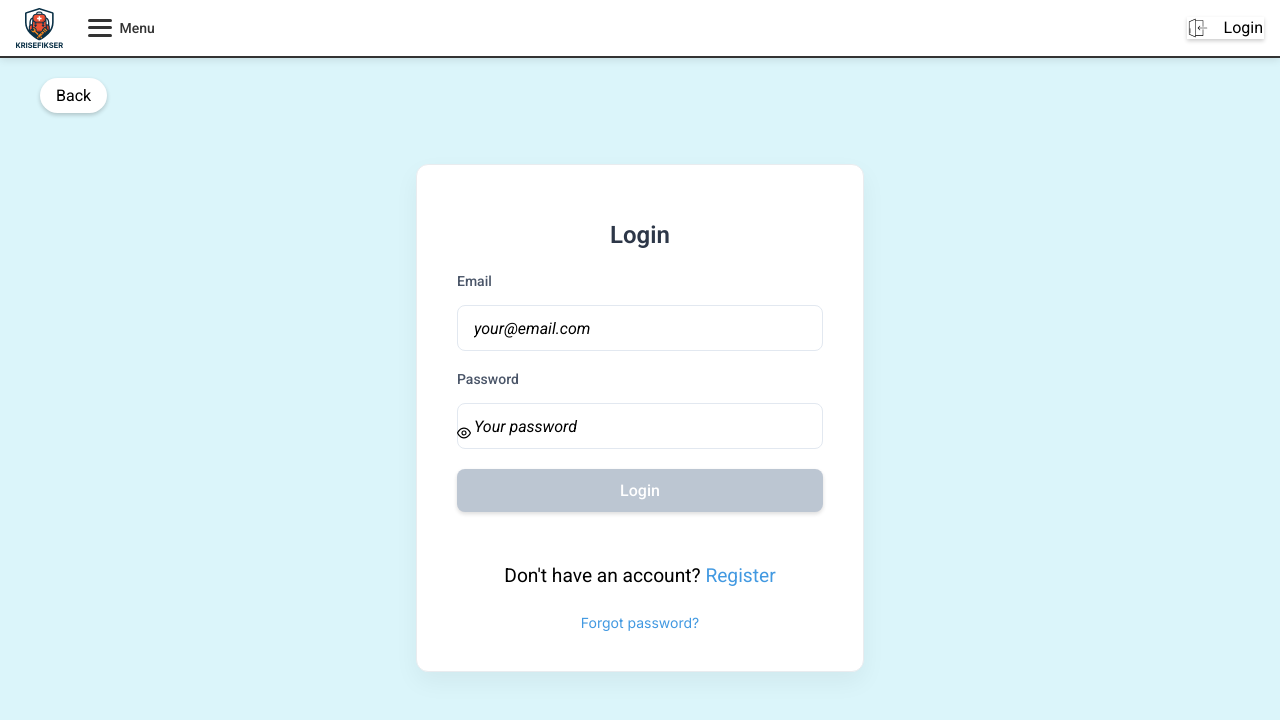
Test: Login Flow › Regular User Login › should handle 2FA required flow
Type "user@example.com" into the field with id "email" at (640, 328), box x1=457 y1=305 x2=823 y2=351
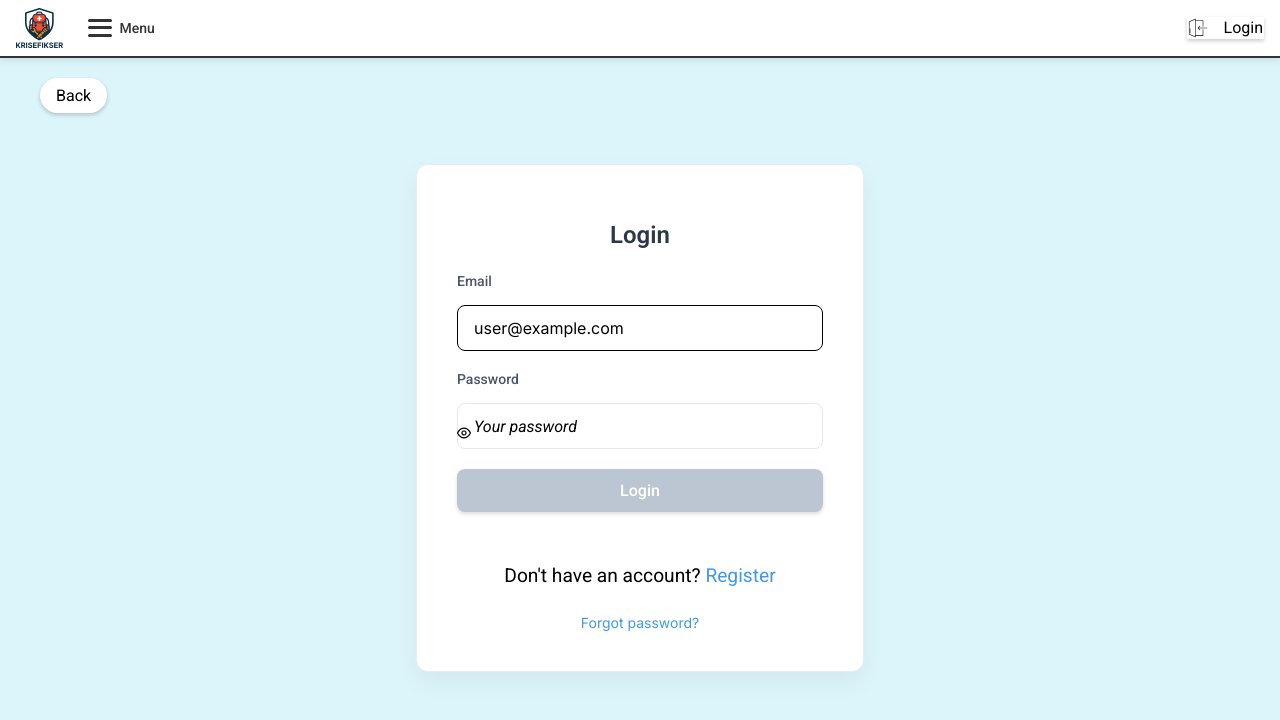
Type "correctpassword" into the password field labelled "Password" at (640, 426), box x1=457 y1=403 x2=823 y2=449
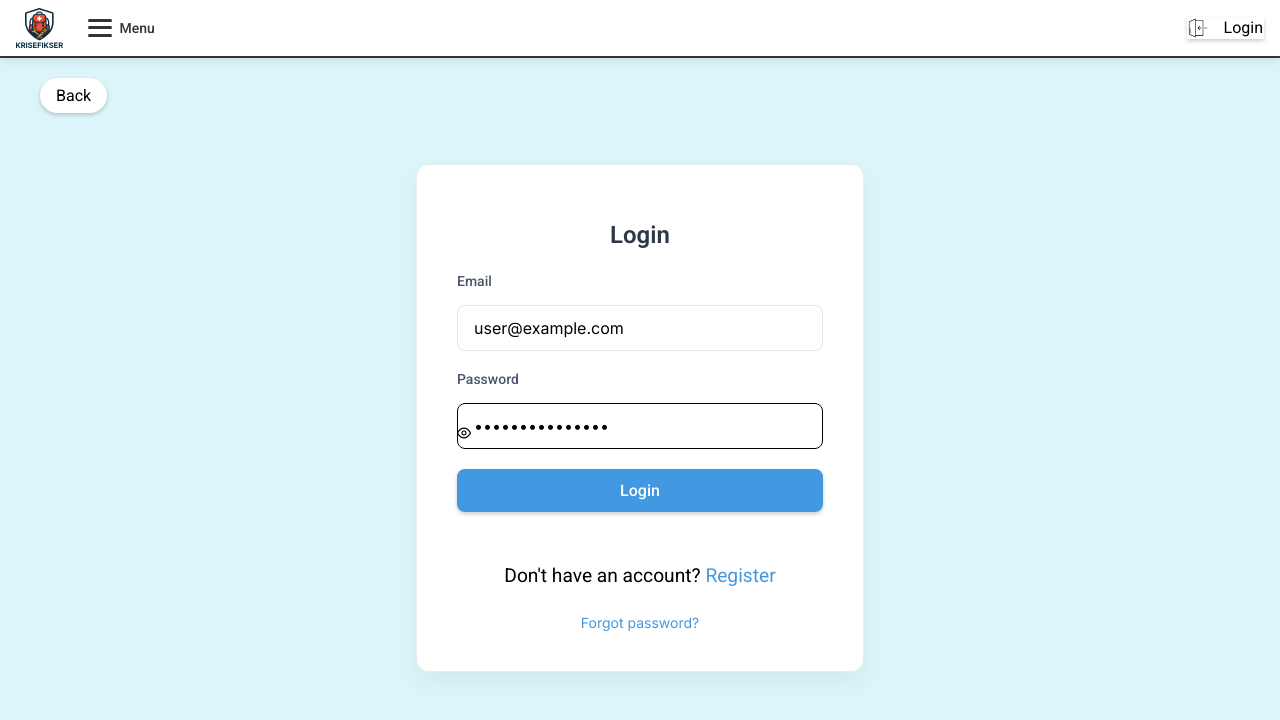
Click the submit button at (640, 491), box x1=457 y1=469 x2=823 y2=512
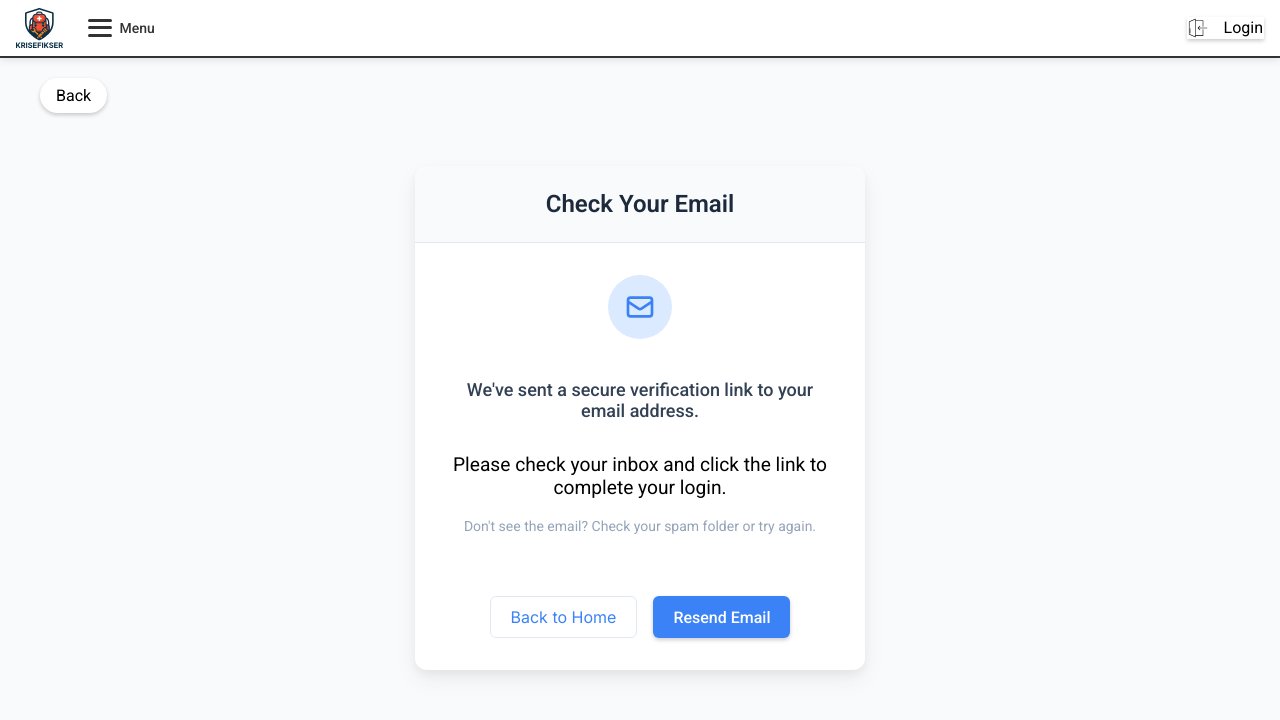
Expected: the text with class "notify-message" shows "We've sent a secure verification link to your email address", x1=467 y1=379 x2=813 y2=421
Expected: the heading with class "notify-title" reads "Check Your Email", x1=546 y1=190 x2=734 y2=218
Expected: the button with class "notify-button" reads "Resend Email", x1=653 y1=596 x2=790 y2=638
